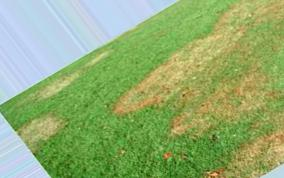patch: (213, 67, 271, 119), (239, 122, 278, 160), (151, 72, 191, 108), (185, 48, 219, 87), (219, 23, 246, 70), (184, 93, 221, 124), (36, 80, 72, 102), (123, 89, 156, 109), (32, 116, 49, 137), (86, 58, 106, 66)
